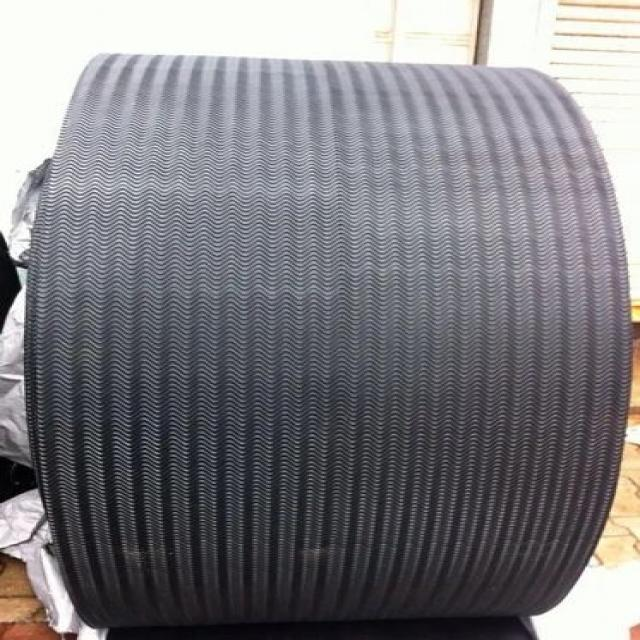broyeur: (32, 46, 640, 638)
